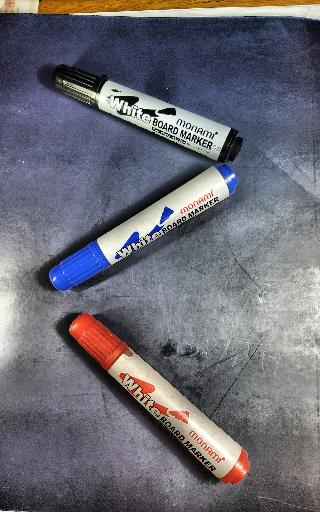marcador azul: (50, 163, 237, 291)
marcador negro: (53, 65, 242, 162)
marcador rojo: (70, 314, 250, 484)
